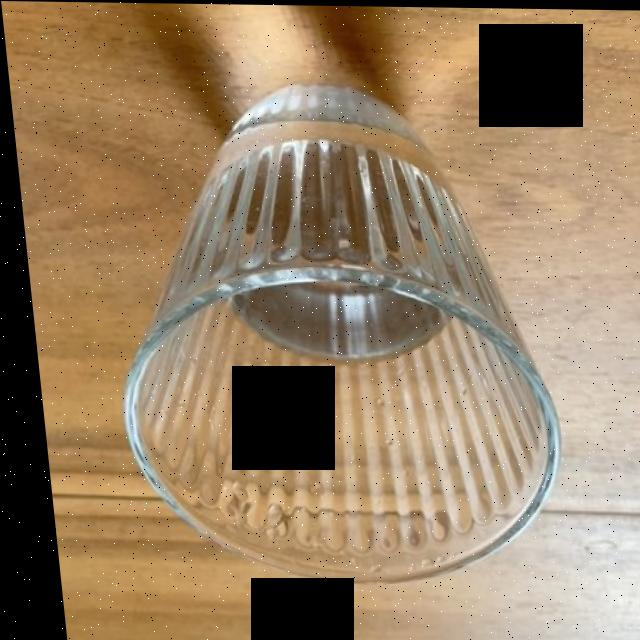water: (193, 92, 465, 363)
